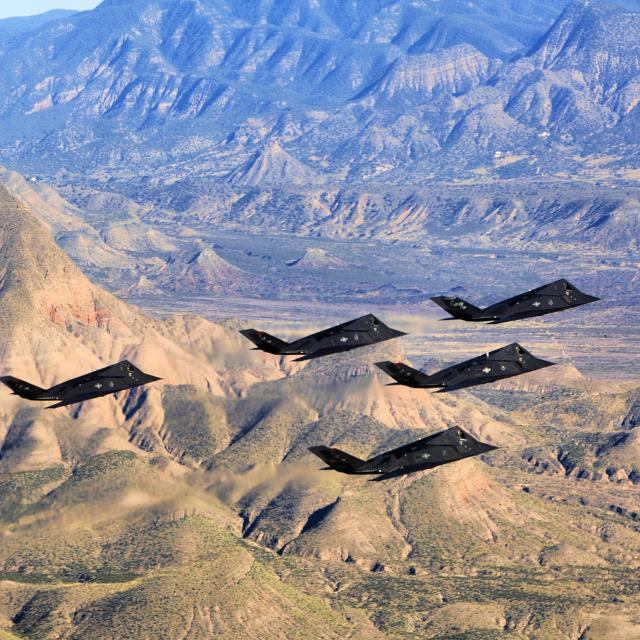MIL_Plane: (306, 425, 505, 482), (372, 342, 559, 394), (238, 312, 410, 362), (0, 359, 166, 409), (429, 278, 604, 325)
